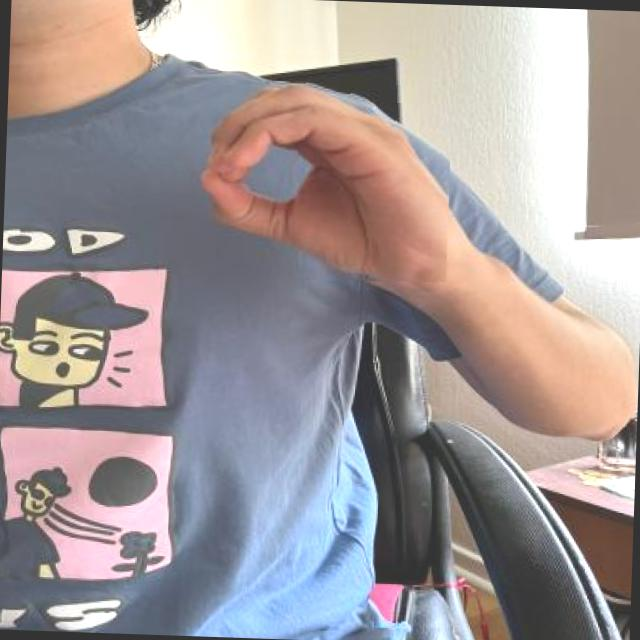O: (185, 78, 452, 288)
